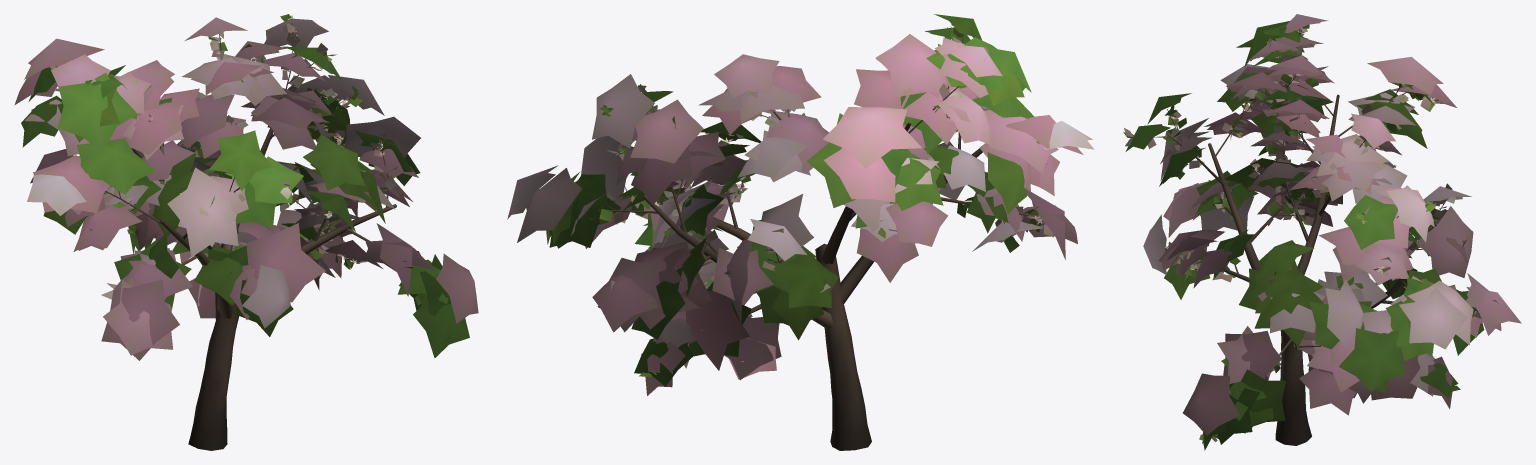
The model's file is apple-c.lod0.glb.
3 renders of one model, left to right at view 1: azimuth 30°, elevation 25°; view 2: azimuth 150°, elevation 25°; view 3: azimuth 270°, elevation 25°, orthographic. The views are drawn at different scales.
Size of the model in its own units: 5.32 by 4.62 by 4.54.
